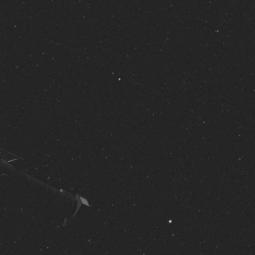xmm_newton: (0, 155, 85, 227)
